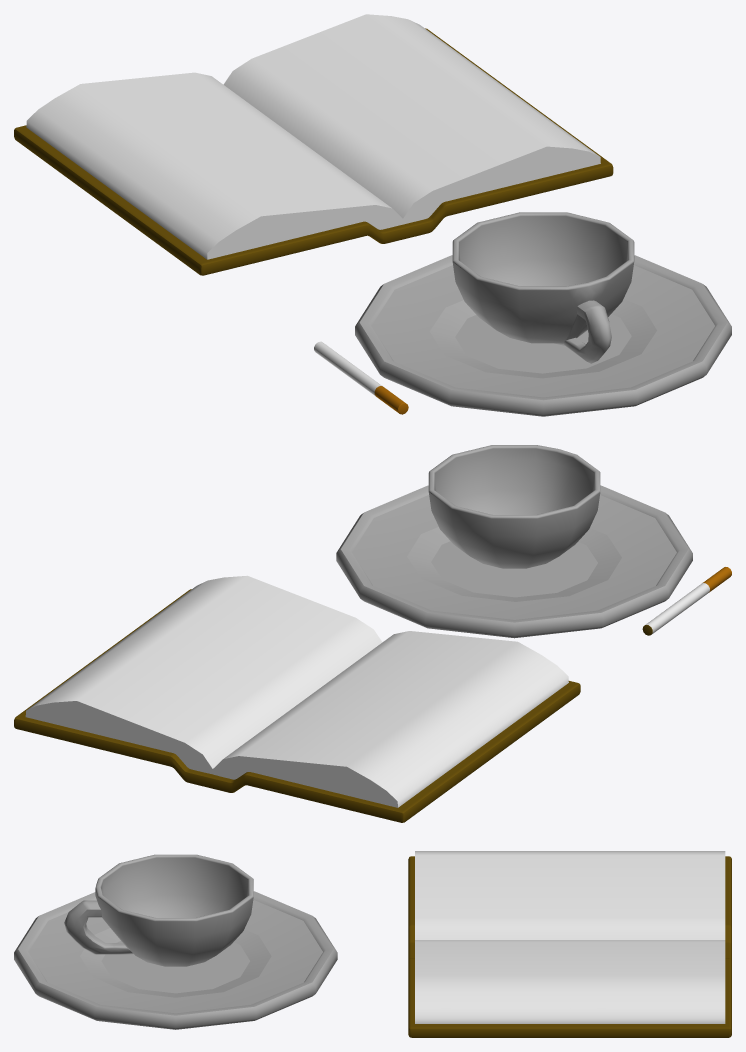
The model's file is Table Toppings.fbx.
The picture shows the model from 3 angles, top to bottom: view 1: azimuth 30°, elevation 25°; view 2: azimuth 150°, elevation 25°; view 3: azimuth 270°, elevation 25°; orthographic projection. The views are drawn at different scales.
Visible parts, largest first — view 1: polySurface2, pCylinder2, pSphere1, pCylinder3; view 2: polySurface2, pCylinder2, pSphere1, pCylinder3; view 3: polySurface2, pCylinder2, pSphere1.
Boxes of the visible parts, <box> form: polySurface2: <box>14,14,613,275</box>; pCylinder2: <box>355,255,731,416</box>; pSphere1: <box>452,212,634,363</box>; pCylinder3: <box>314,341,408,414</box>; polySurface2: <box>14,575,580,822</box>; pCylinder2: <box>336,485,692,638</box>; pSphere1: <box>428,445,600,568</box>; pCylinder3: <box>642,567,731,635</box>; polySurface2: <box>408,851,731,1037</box>; pCylinder2: <box>14,891,337,1029</box>; pSphere1: <box>64,854,253,966</box>.
Bounding box in the file's own units: 152 × 37.37 × 266.
